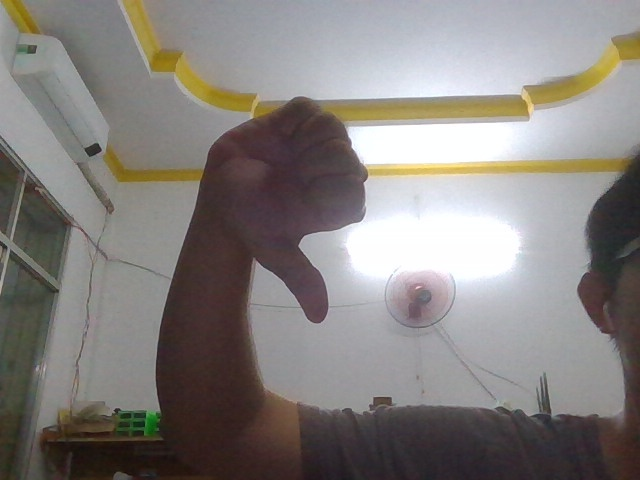thumb_down: (180, 82, 381, 333)
